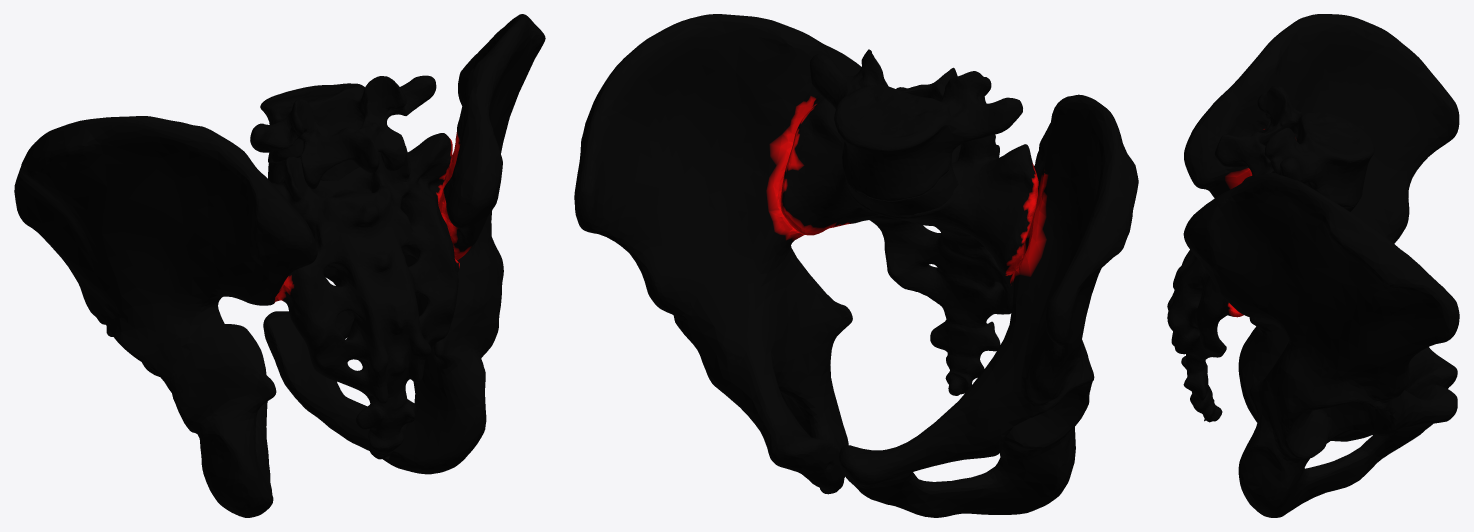
Rendered from simple.glb.
3 views of the same model, side by side, from view 1: azimuth 30°, elevation 25°; view 2: azimuth 150°, elevation 25°; view 3: azimuth 270°, elevation 25° (orthographic). The views are drawn at different scales.
Parts seen in each view (by area): view 1: hipL, sacrum, hipR, L5, disc; view 2: hipR, hipL, sacrum, L5, disc; view 3: hipR, hipL, L5, sacrum.
Boxes of the visible parts, left/top/right/bottom form: hipL: left=14, top=116, right=317, bottom=517; sacrum: left=272, top=133, right=459, bottom=459; hipR: left=263, top=14, right=545, bottom=474; L5: left=250, top=75, right=436, bottom=189; disc: left=268, top=157, right=359, bottom=184; hipR: left=574, top=14, right=861, bottom=494; hipL: left=839, top=94, right=1138, bottom=517; sacrum: left=780, top=98, right=1038, bottom=395; L5: left=809, top=49, right=1022, bottom=201; disc: left=844, top=160, right=958, bottom=215; hipR: left=1183, top=173, right=1459, bottom=517; hipL: left=1184, top=14, right=1459, bottom=441; L5: left=1214, top=85, right=1374, bottom=207; sacrum: left=1167, top=121, right=1270, bottom=422.
Size of the model in its own units: 263 by 208 by 147.
